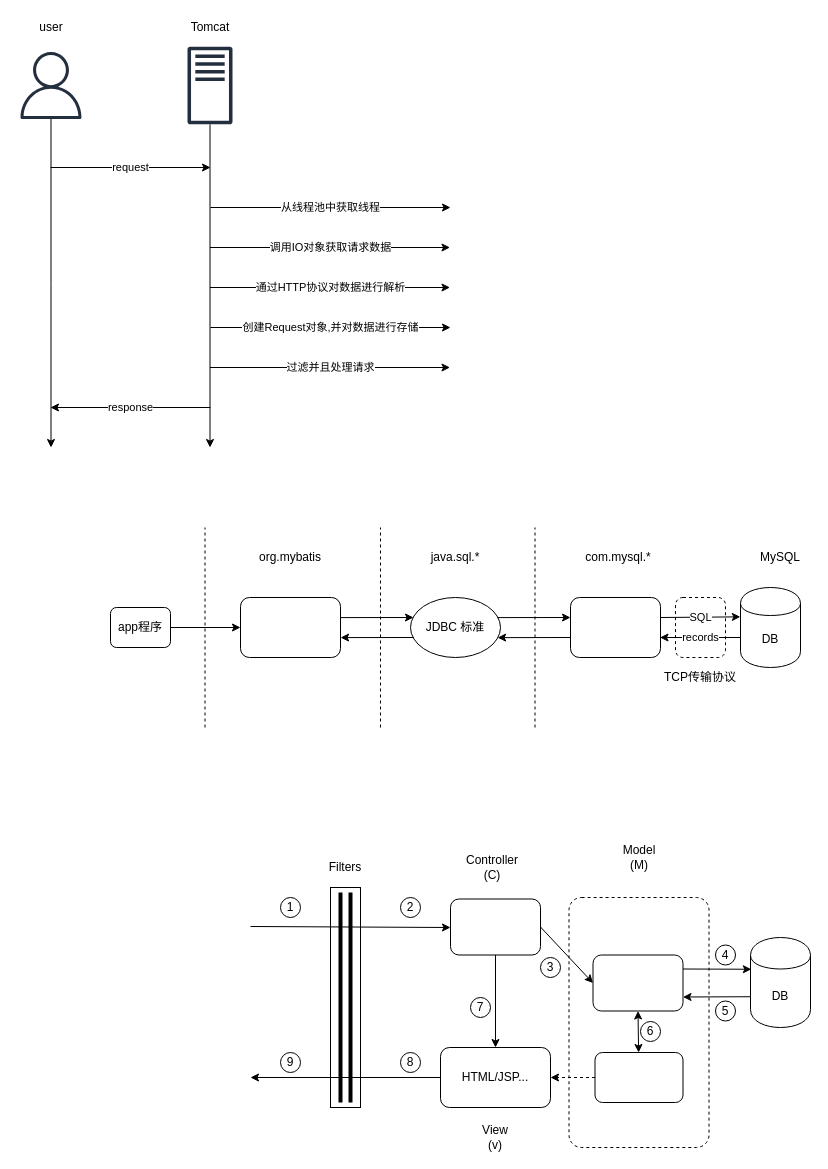
This 828x1169 diagram has some shape labels left out. Each missing label, with the box of its shape:
JDBC Driver: (570, 596, 660, 658)
MyBatis 框架: (240, 596, 340, 658)
POJO: (594, 1052, 683, 1102)
Service,Dao: (592, 954, 683, 1011)
Servlet: (450, 898, 540, 955)
